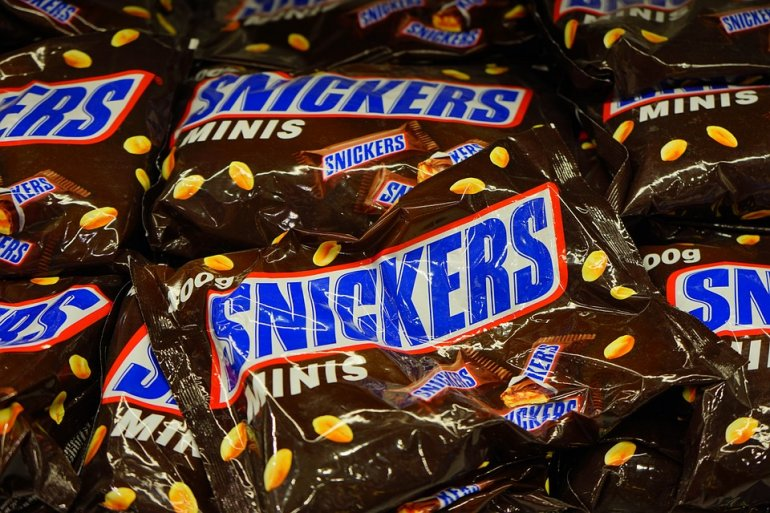snickers: (208, 196, 554, 392), (210, 196, 554, 391), (208, 200, 554, 392), (186, 70, 517, 121), (191, 70, 517, 121), (0, 75, 135, 136), (667, 263, 767, 333), (0, 286, 105, 347), (0, 296, 109, 347), (322, 130, 404, 176), (324, 130, 404, 176), (324, 135, 405, 176), (398, 14, 476, 46), (403, 366, 473, 400), (406, 367, 473, 400), (499, 401, 577, 427), (357, 0, 427, 25), (717, 4, 769, 32), (518, 344, 554, 384), (722, 4, 769, 32), (721, 6, 767, 33), (721, 6, 767, 32), (10, 175, 51, 200), (2, 231, 29, 264)
